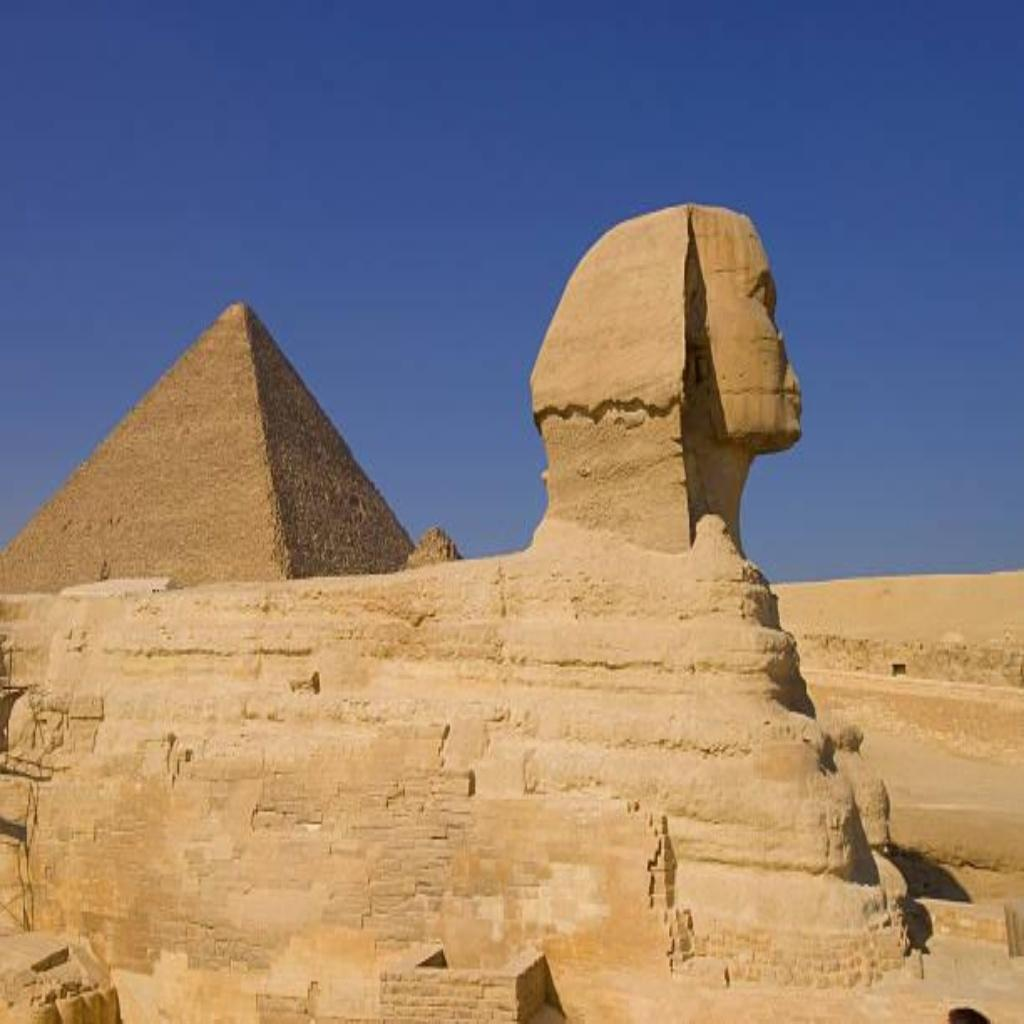Sphinx: (0, 197, 917, 1019)
